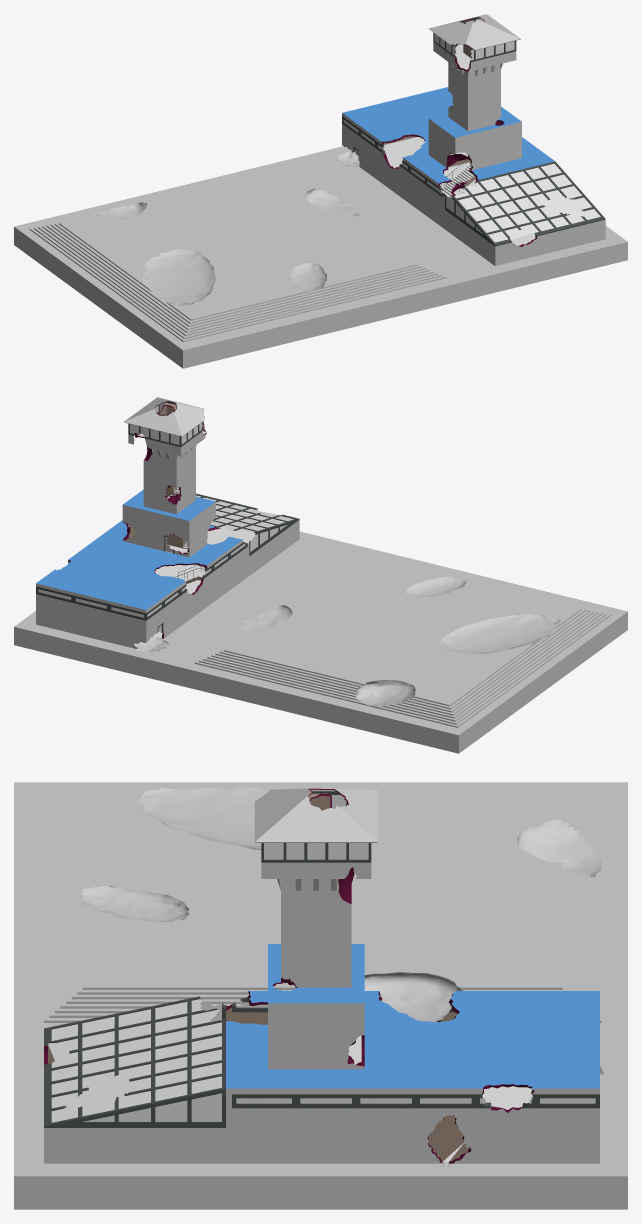
The model's file is Broadcast_station_02.fbx.
3 renders of one model, top to bottom at view 1: azimuth 30°, elevation 25°; view 2: azimuth 150°, elevation 25°; view 3: azimuth 270°, elevation 25°, orthographic. The views are drawn at different scales.
Visible parts, largest first — view 1: broadcasting_stations_02_ground, broadcasting_stations_02_building, broadcasting_stations_02_atrium_glass, broadcasting_stations_02_atrium_frame, broadcasting_stations_02_roof, broadcasting_stations_02_tower_glass, broadcasting_stations_02_circuit_frame; view 2: broadcasting_stations_02_ground, broadcasting_stations_02_building, broadcasting_stations_02_roof, broadcasting_stations_02_atrium_glass, broadcasting_stations_02_circuit_frame, broadcasting_stations_02_atrium_frame, broadcasting_stations_02_tower_glass, broadcasting_stations_02_circuit_glass; view 3: broadcasting_stations_02_ground, broadcasting_stations_02_building, broadcasting_stations_02_atrium_glass, broadcasting_stations_02_atrium_frame, broadcasting_stations_02_roof, broadcasting_stations_02_circuit_frame, broadcasting_stations_02_tower_glass, broadcasting_stations_02_circuit_glass, broadcasting_stations_02_tower_frame.
Boxes of the visible parts, x1,y1,x2,y2 form: broadcasting_stations_02_ground: (14,137,627,368); broadcasting_stations_02_building: (342,42,605,265); broadcasting_stations_02_atrium_glass: (446,163,600,242); broadcasting_stations_02_atrium_frame: (445,161,605,246); broadcasting_stations_02_roof: (428,14,520,50); broadcasting_stations_02_tower_glass: (434,18,514,60); broadcasting_stations_02_circuit_frame: (342,116,444,197); broadcasting_stations_02_ground: (14,527,627,753); broadcasting_stations_02_building: (36,403,299,648); broadcasting_stations_02_roof: (124,397,204,436); broadcasting_stations_02_atrium_glass: (196,495,293,551); broadcasting_stations_02_circuit_frame: (36,542,247,620); broadcasting_stations_02_atrium_frame: (196,493,299,555); broadcasting_stations_02_tower_glass: (130,402,203,444); broadcasting_stations_02_circuit_glass: (38,544,245,617); broadcasting_stations_02_ground: (14,782,627,1209); broadcasting_stations_02_building: (44,793,599,1163); broadcasting_stations_02_atrium_glass: (48,999,221,1122); broadcasting_stations_02_atrium_frame: (44,996,225,1127); broadcasting_stations_02_roof: (254,788,377,842); broadcasting_stations_02_circuit_frame: (232,997,599,1108); broadcasting_stations_02_tower_glass: (264,795,368,859); broadcasting_stations_02_circuit_glass: (236,1000,595,1103); broadcasting_stations_02_tower_frame: (261,791,371,862).
Size of the model in its own units: 6766 by 2867 by 4455.
